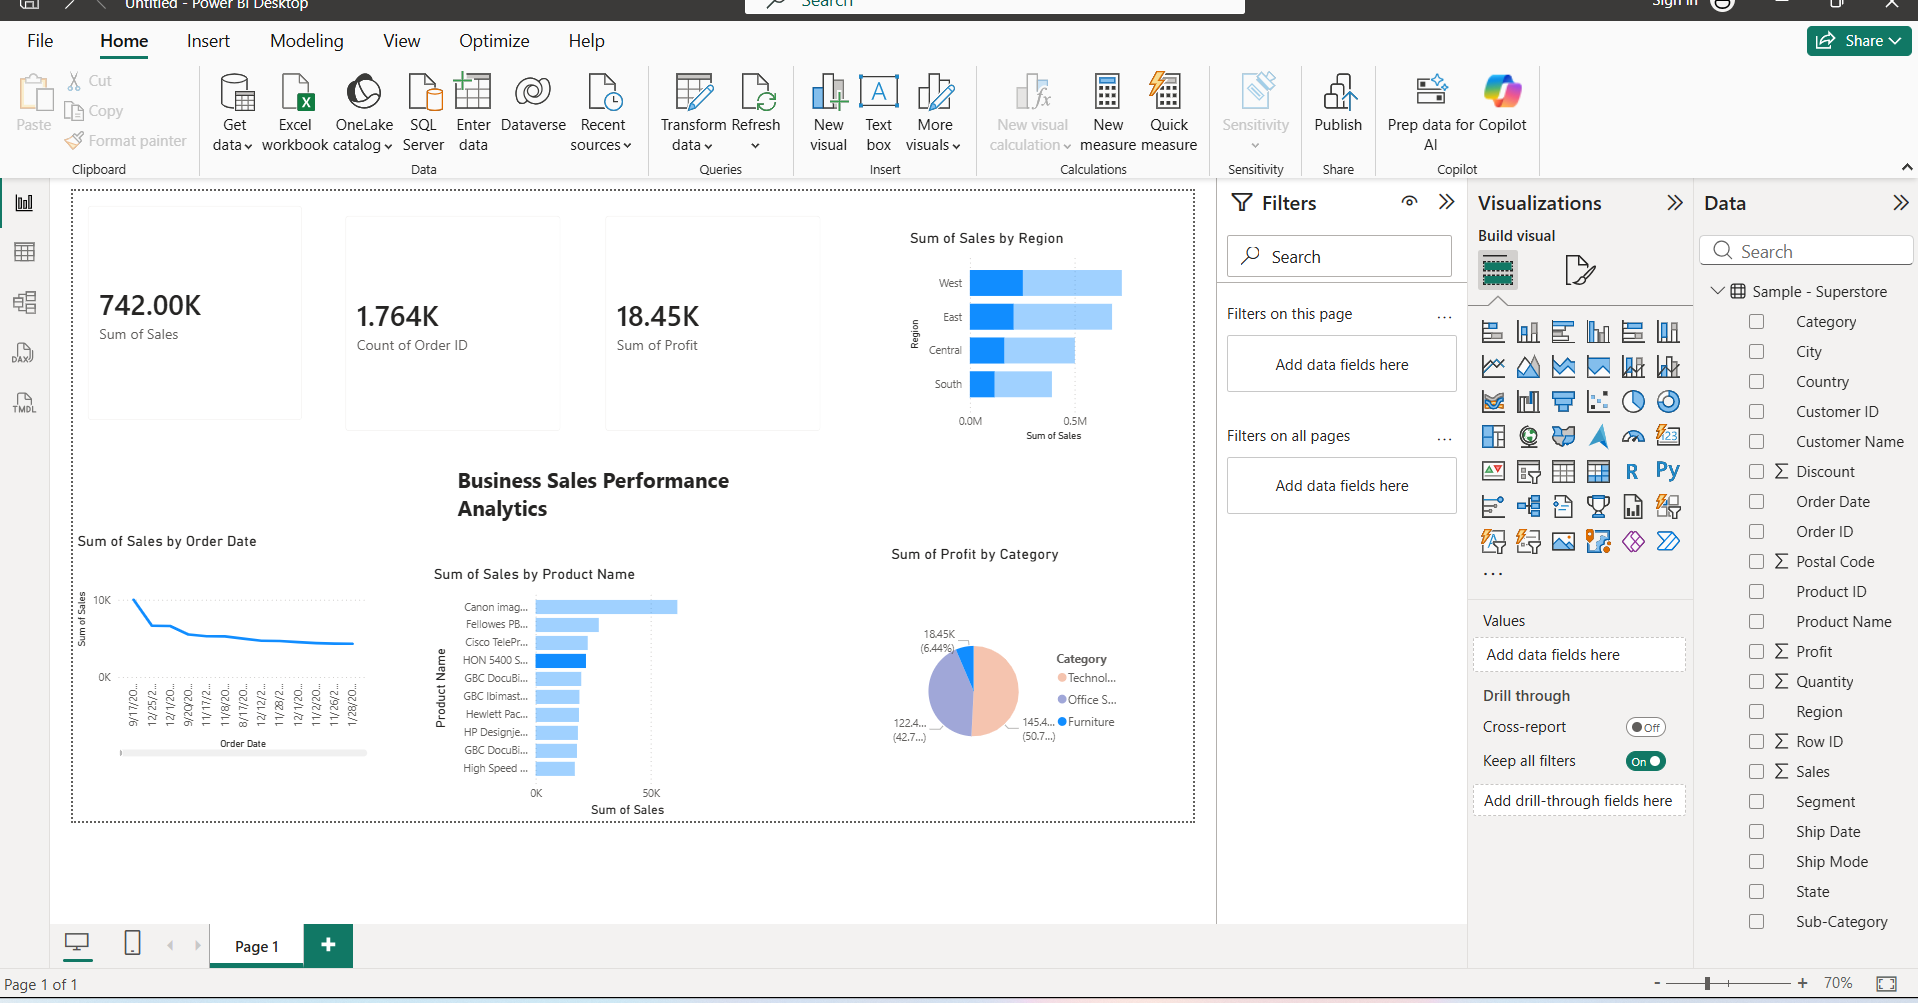

What the dashboard file says about the page in this screenshot:
{"tool":"powerbi","page":{"name":"Page 1","canvas":[1280,720],"ordinal":0},"visuals":[{"type":"cardVisual","fields":{"Data":["Sum(Sample - Superstore.Sales)"]},"box":[0,0,279.9,279.9],"z":0},{"type":"cardVisual","fields":{"Data":["Sum(Sample - Superstore.Profit)"]},"box":[591.4,11.4,280,280],"z":1},{"type":"cardVisual","fields":{"Data":["Count(Sample - Superstore.Order ID)"]},"box":[294.3,11.4,280,280],"z":2},{"type":"clusteredBarChart","fields":{"Y":["Sum(Sample - Superstore.Sales)"],"Category":["Sample - Superstore.Region"]},"box":[951.4,42.9,284.3,248.6],"z":3},{"type":"lineChart","fields":{"Category":["Sample - Superstore.Order Date"],"Y":["Sum(Sample - Superstore.Sales)"]},"box":[0,390,341.4,261.4],"z":4},{"type":"clusteredBarChart","fields":{"Category":["Sample - Superstore.Product Name"],"Y":["Sum(Sample - Superstore.Sales)"]},"box":[407.1,427.1,347.1,292.9],"z":5},{"type":"pieChart","fields":{"Category":["Sample - Superstore.Category"],"Y":["Sum(Sample - Superstore.Profit)"]},"box":[930,404.3,280,315.7],"z":6},{"type":"textbox","box":[434.3,308.6,422.9,95.7],"z":7}]}

Visuals, with their boxes on the page's 1280x720 design canvas (x1, y1, x2, y2). These are canvas units, not pixel positions in the 1918x1003 screenshot, which may show the page scaled, cropped or inside an application window:
cardVisual - Sum(Sample - Superstore.Sales): 0/0/280/280
cardVisual - Sum(Sample - Superstore.Profit): 591/11/871/291
cardVisual - Count(Sample - Superstore.Order ID): 294/11/574/291
clusteredBarChart - Sum(Sample - Superstore.Sales) x Sample - Superstore.Region: 951/43/1236/292
lineChart - Sample - Superstore.Order Date x Sum(Sample - Superstore.Sales): 0/390/341/651
clusteredBarChart - Sample - Superstore.Product Name x Sum(Sample - Superstore.Sales): 407/427/754/720
pieChart - Sample - Superstore.Category x Sum(Sample - Superstore.Profit): 930/404/1210/720
textbox: 434/309/857/404
